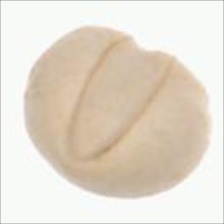L5: (65, 36, 174, 163)
L6: (23, 22, 213, 200)
